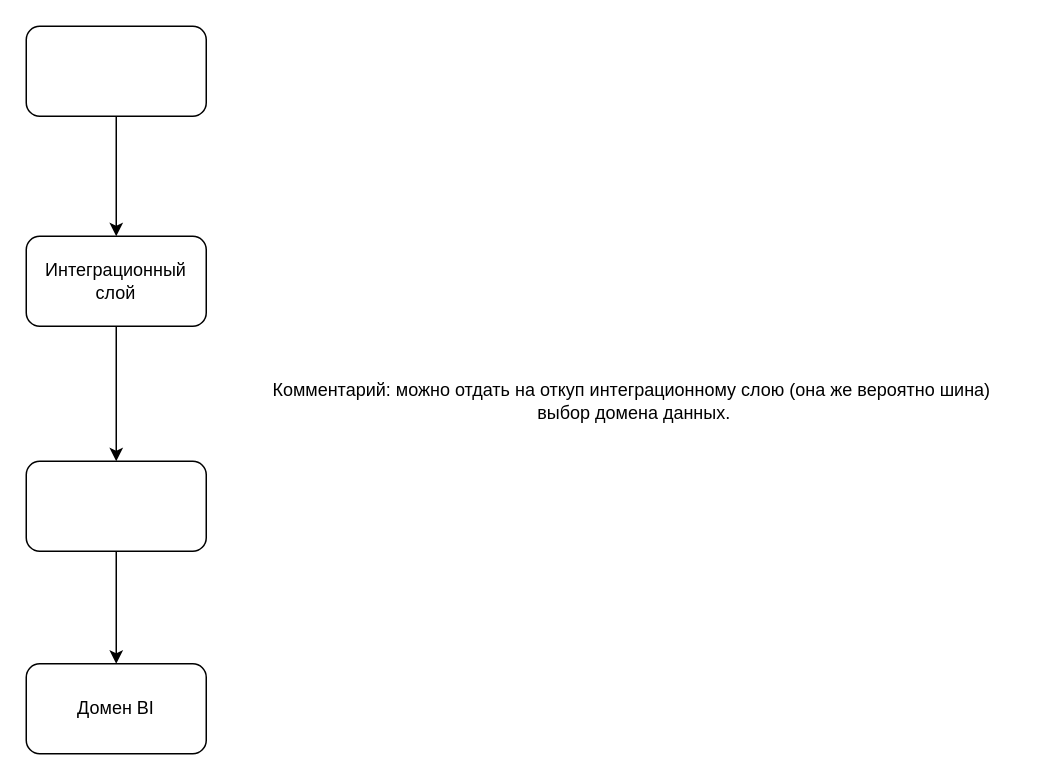
The diagram is 1043 pixels wide and 780 high, and some of its shapes have lost their labels. Each missing label, with the centre of its shape:
Внешние системы: (115,70)
Домен хранения данных: (115,505)
